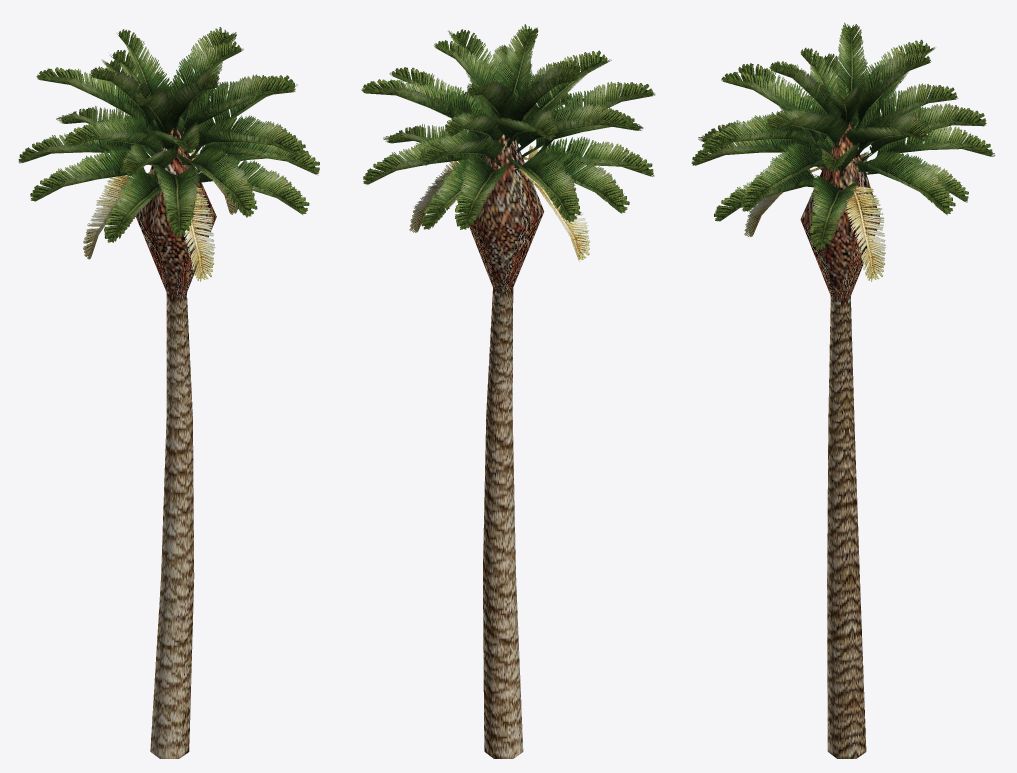
The model's file is tree_cretan_date_palm_01.dae.
3 views of the same model, side by side, from view 1: azimuth 30°, elevation 25°; view 2: azimuth 150°, elevation 25°; view 3: azimuth 270°, elevation 25° (orthographic).
Parts seen in each view (by area): view 1: tree_cretan_date_palm_01; view 2: tree_cretan_date_palm_01; view 3: tree_cretan_date_palm_01.
Part boxes in pixels (<box>): tree_cretan_date_palm_01: <box>18,27,319,758</box>; tree_cretan_date_palm_01: <box>361,24,655,758</box>; tree_cretan_date_palm_01: <box>691,22,995,758</box>.
Size of the model in its own units: 10.69 by 26.78 by 10.84.
